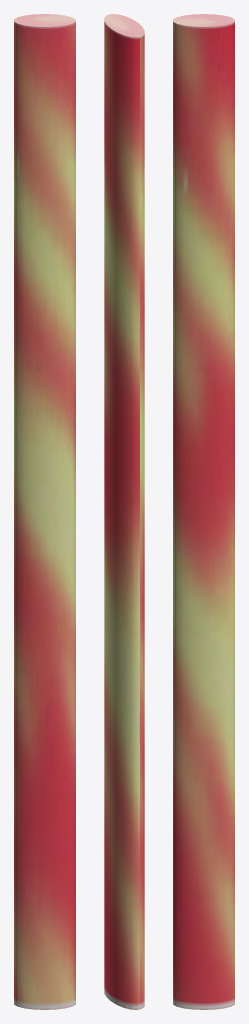
Rendered from laser.fbx.
The picture shows the model from 3 angles, left to right: view 1: azimuth 90°, elevation 25°; view 2: azimuth 210°, elevation 25°; view 3: azimuth 270°, elevation 25°; orthographic projection.
Visible parts, largest first — view 1: Cylinder003; view 2: Cylinder003; view 3: Cylinder003.
Part boxes in pixels (box(x1,y1,x2,y2)): Cylinder003: box(14, 14, 75, 1009); Cylinder003: box(104, 14, 144, 1009); Cylinder003: box(173, 14, 234, 1009).
Size of the model in its own units: 79.85 by 2793 by 159.
Materials: 1 (1 with a texture image).
